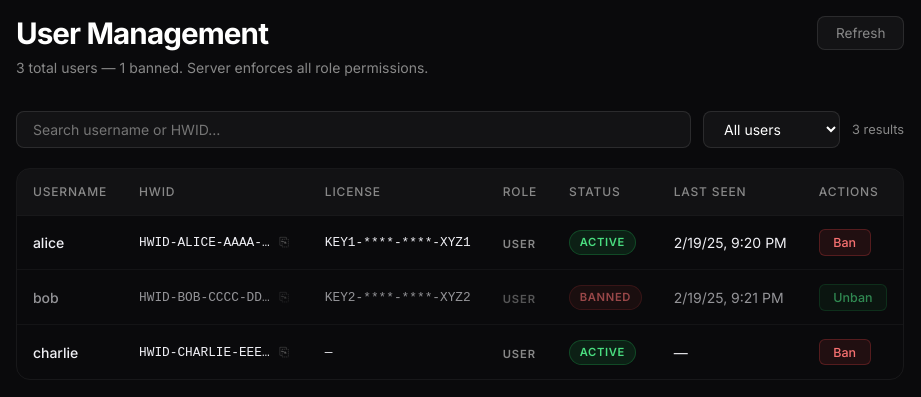
AdminUsers — filter dropdown › shows only banned users when Banned only selected
Expected: the text "alice" is shown, [17,215,123,270]
Select "Banned only" in the dropdown at (772, 130), box [703,112,840,148]
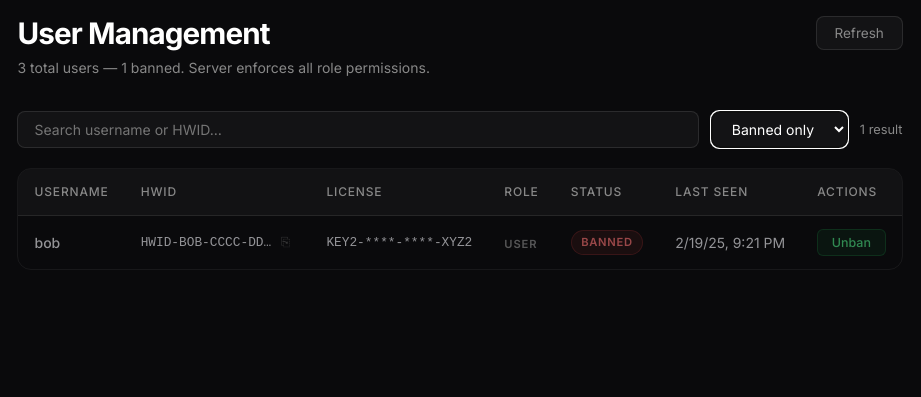
Expected: the text "bob" is shown, [18,215,125,270]
Expected: the text "alice" is gone
Expected: the text "charlie" is gone
